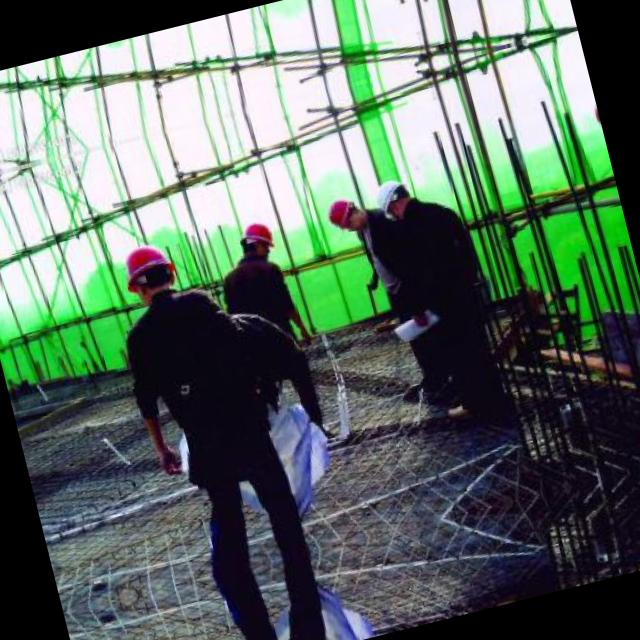helmet: (111, 234, 182, 312), (369, 172, 419, 222), (322, 191, 373, 235), (234, 214, 276, 261)
